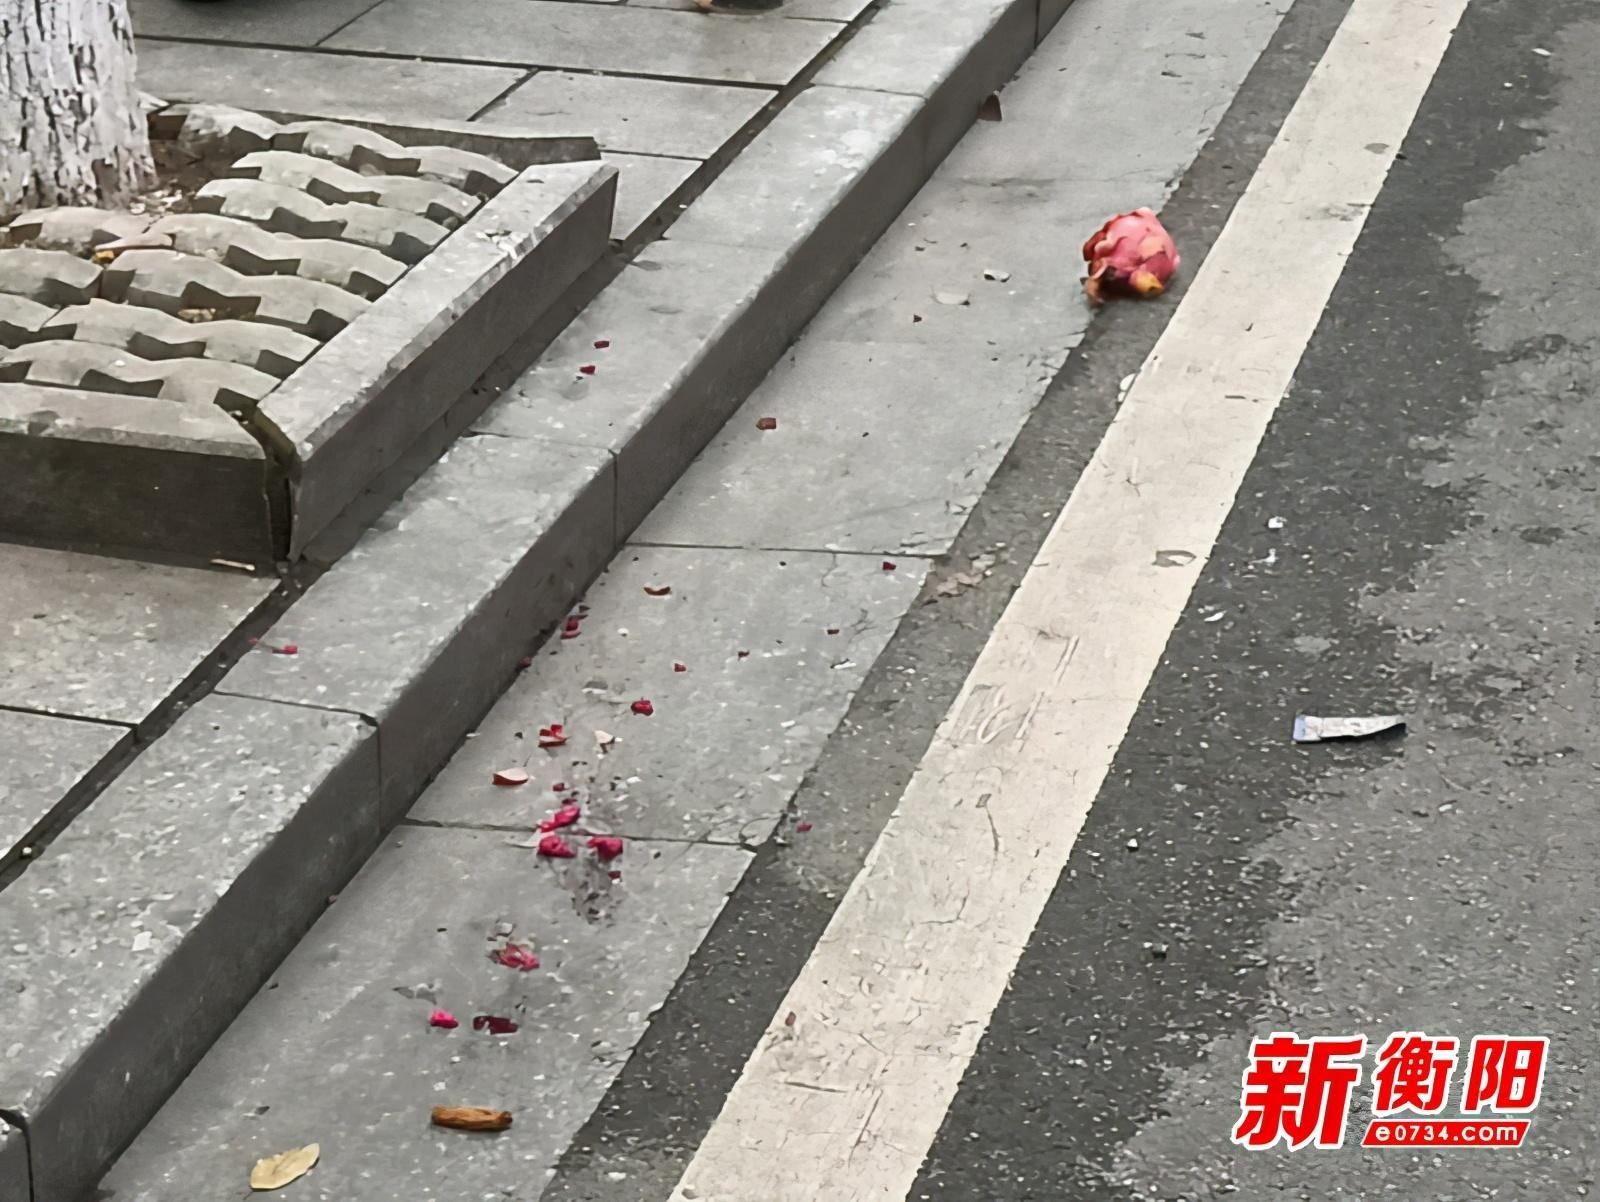garbage: (1067, 188, 1201, 312), (1293, 698, 1418, 759), (540, 800, 640, 870), (424, 1000, 522, 1053), (482, 741, 554, 808), (487, 925, 544, 976), (620, 684, 667, 731), (552, 609, 601, 652)
